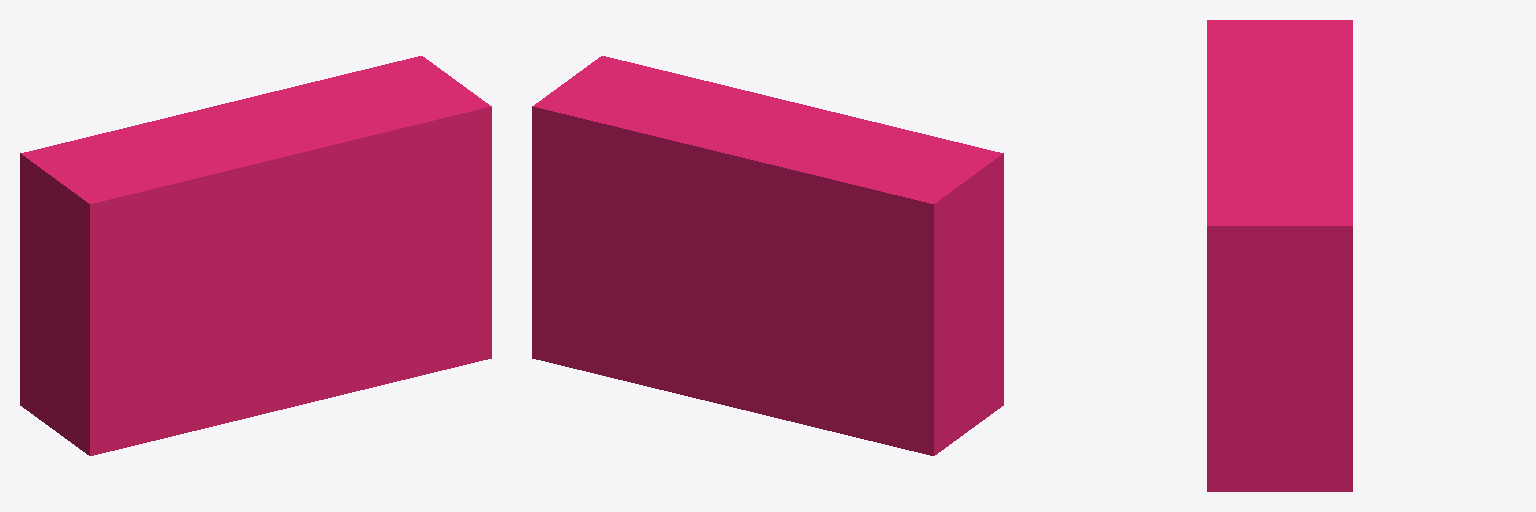
The robot description file, URDF, robot "triangular_prism":
<?xml version='1.0' encoding='UTF-8'?>
<robot name="triangular_prism">
  <link name="base_link">
    <inertial>
      <origin xyz="0.0 0.0 0.0" rpy="0.0 -0.0 0.0"/>
      <mass value="1.0"/>
      <inertia ixx="1.0" ixy="0.0" ixz="0.0" iyy="1.0" iyz="0.0" izz="1.0"/>
    </inertial>
    <visual name="base_link_visual">
      <geometry>
        <box size="1.0 0.3 0.6"/>
      </geometry>
      <origin xyz="0 0 0" rpy="0 0 0"/>
      <material name="object_color">
        <color rgba="0.95 0.2 0.5 1"/>
      </material>
    </visual>
    <collision name="base_link_collision">
      <geometry>
        <box size="1.0 0.3 0.6"/>
      </geometry>
      <origin xyz="0 0 0" rpy="0 0 0"/>
    </collision>
  </link>
</robot> 

--- What the picture shows (computed from the rendered views, not written in the file) ---
The picture shows the robot from 3 angles, left to right: view 1: azimuth 30°, elevation 25°; view 2: azimuth 150°, elevation 25°; view 3: azimuth 270°, elevation 25°; orthographic projection.
Model triangular_prism with 1 links and 0 joints (none), rooted at base_link, posed all joints at 0.
Visible links, largest first — view 1: base_link; view 2: base_link; view 3: base_link.
Link boxes in pixels (x1,y1,x2,y2): base_link: (20,56,491,455); base_link: (532,56,1003,455); base_link: (1207,20,1352,491).
Size in the robot's own frame: 1 by 0.3 by 0.6 metres.
Geometry: primitives only (box / cylinder / sphere), no mesh files.
